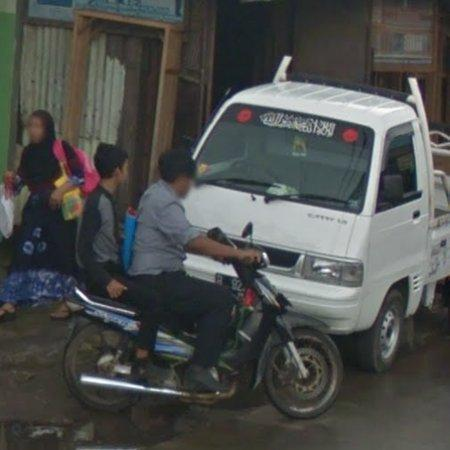motorcycles: (63, 249, 344, 419)
